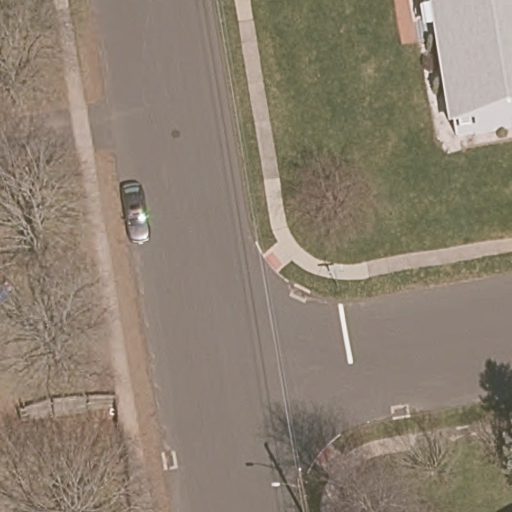DT: (271, 466, 309, 512)
